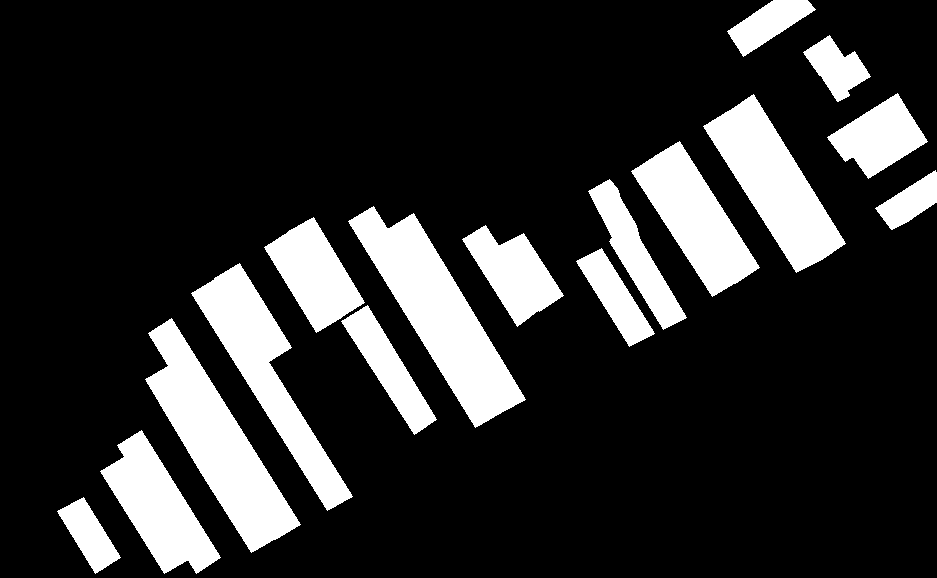parkingspot: (191, 278, 352, 510), (348, 206, 501, 427), (148, 318, 300, 539), (387, 213, 525, 412), (145, 365, 277, 552), (728, 94, 845, 260), (703, 110, 821, 272), (631, 155, 737, 296), (654, 141, 759, 283), (117, 430, 220, 573), (588, 179, 686, 329), (341, 305, 436, 434), (100, 456, 188, 573), (264, 231, 341, 332), (462, 225, 539, 326), (576, 248, 654, 346), (214, 263, 291, 362), (288, 217, 364, 317), (827, 93, 912, 161), (498, 233, 563, 311), (727, 0, 815, 56), (57, 497, 120, 573), (851, 116, 927, 178), (875, 170, 937, 229), (819, 51, 870, 101), (803, 35, 845, 75)
